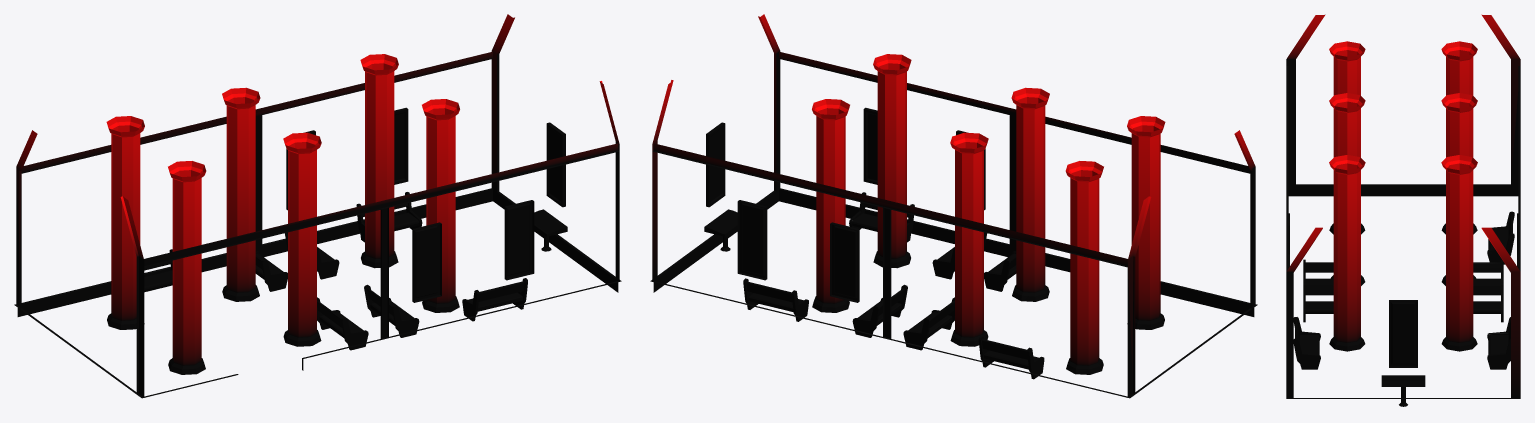
File: LMX_chapel_props1.dae
3 views of the same model, side by side, from view 1: azimuth 30°, elevation 25°; view 2: azimuth 150°, elevation 25°; view 3: azimuth 270°, elevation 25° (orthographic). The views are drawn at different scales.
Parts seen in each view (by area): view 1: chapel_Module_Common_LMX_chapel_props; view 2: chapel_Module_Common_LMX_chapel_props; view 3: chapel_Module_Common_LMX_chapel_props.
Part boxes in pixels (x1,y1,x2,y2): chapel_Module_Common_LMX_chapel_props: [14, 14, 621, 398]; chapel_Module_Common_LMX_chapel_props: [650, 14, 1257, 398]; chapel_Module_Common_LMX_chapel_props: [1286, 14, 1520, 406].
Bounding box in the file's own units: 20.8 × 9.6 × 8.2.
